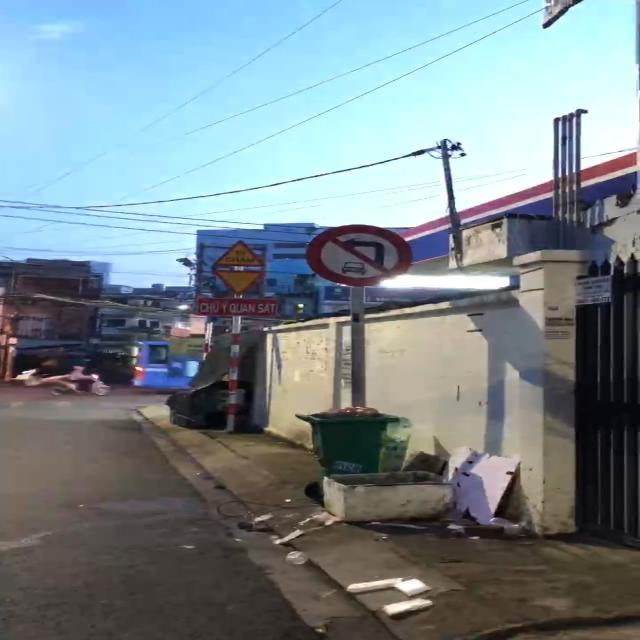Bien bao cam xe o to re trai: (301, 222, 418, 293)
Bien bao di cham: (211, 238, 268, 271)
Bien bao giao nhau voi duong uu tien: (210, 268, 271, 299)
